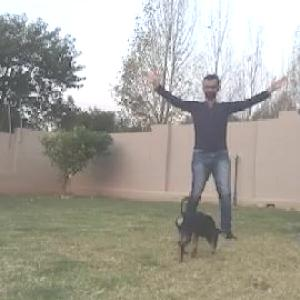takeoff: (143, 56, 299, 254)
